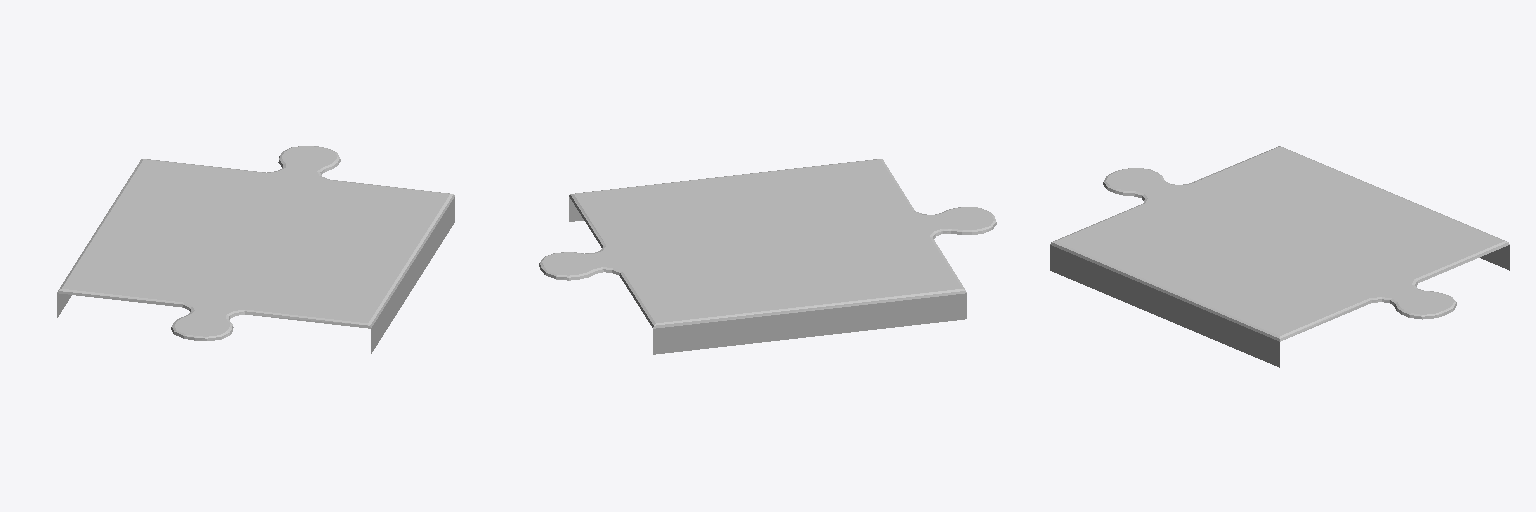
Rendered from Diagonal LTR Knobs.obj.
3 renders of one model, left to right at view 1: azimuth 30°, elevation 25°; view 2: azimuth 150°, elevation 25°; view 3: azimuth 270°, elevation 25°, orthographic.
Visible parts, largest first — view 1: PuzzleStraightDiagonalLTRKnobs; view 2: PuzzleStraightDiagonalLTRKnobs; view 3: PuzzleStraightDiagonalLTRKnobs.
Part boxes in pixels (x1,y1,x2,y2): PuzzleStraightDiagonalLTRKnobs: (57, 146, 454, 353); PuzzleStraightDiagonalLTRKnobs: (539, 159, 996, 354); PuzzleStraightDiagonalLTRKnobs: (1050, 146, 1509, 367).
Size of the model in its own units: 835 by 59.05 by 835.